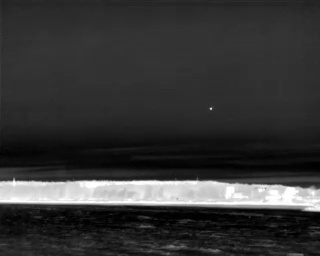HELICOPTER: (207, 104, 215, 113)
